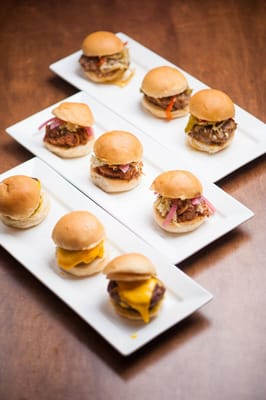soup: (103, 252, 167, 324), (150, 169, 216, 234), (51, 210, 108, 278), (88, 129, 144, 194), (184, 88, 238, 155), (40, 101, 96, 159), (140, 65, 192, 120), (79, 31, 132, 84)
